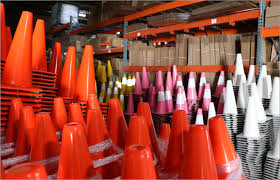cones: (4, 12, 41, 93), (77, 45, 102, 106), (53, 46, 76, 102), (235, 100, 262, 143), (151, 88, 169, 120)
